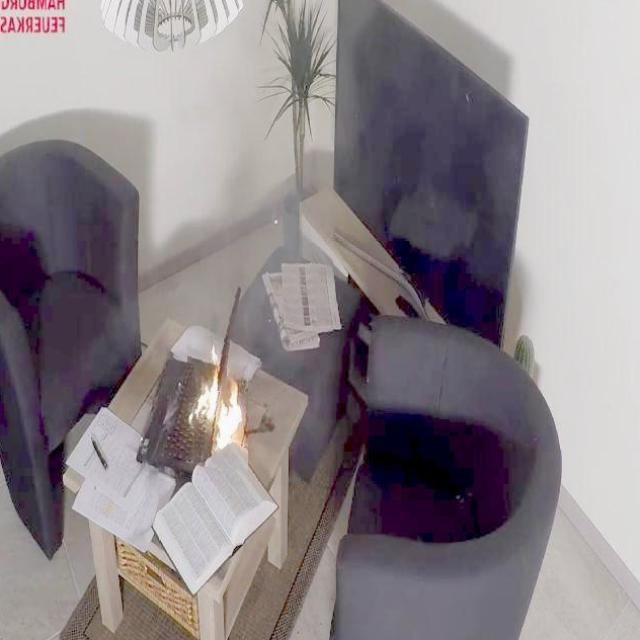fire: (228, 44, 369, 441)
smoke: (185, 338, 248, 456)
